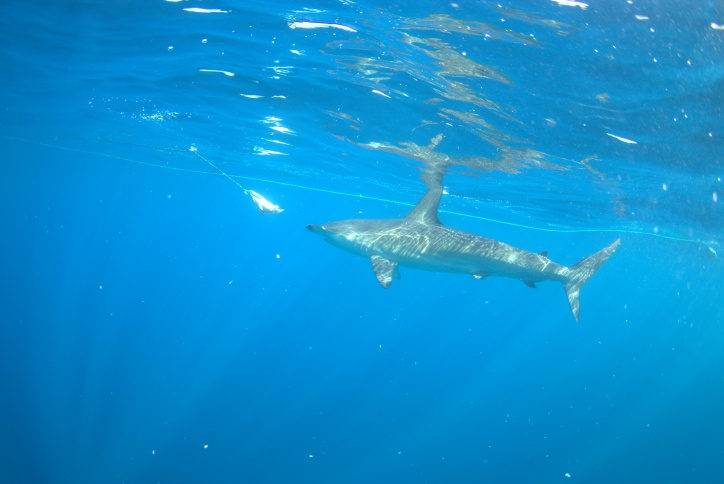Hammer: (300, 174, 629, 331)
